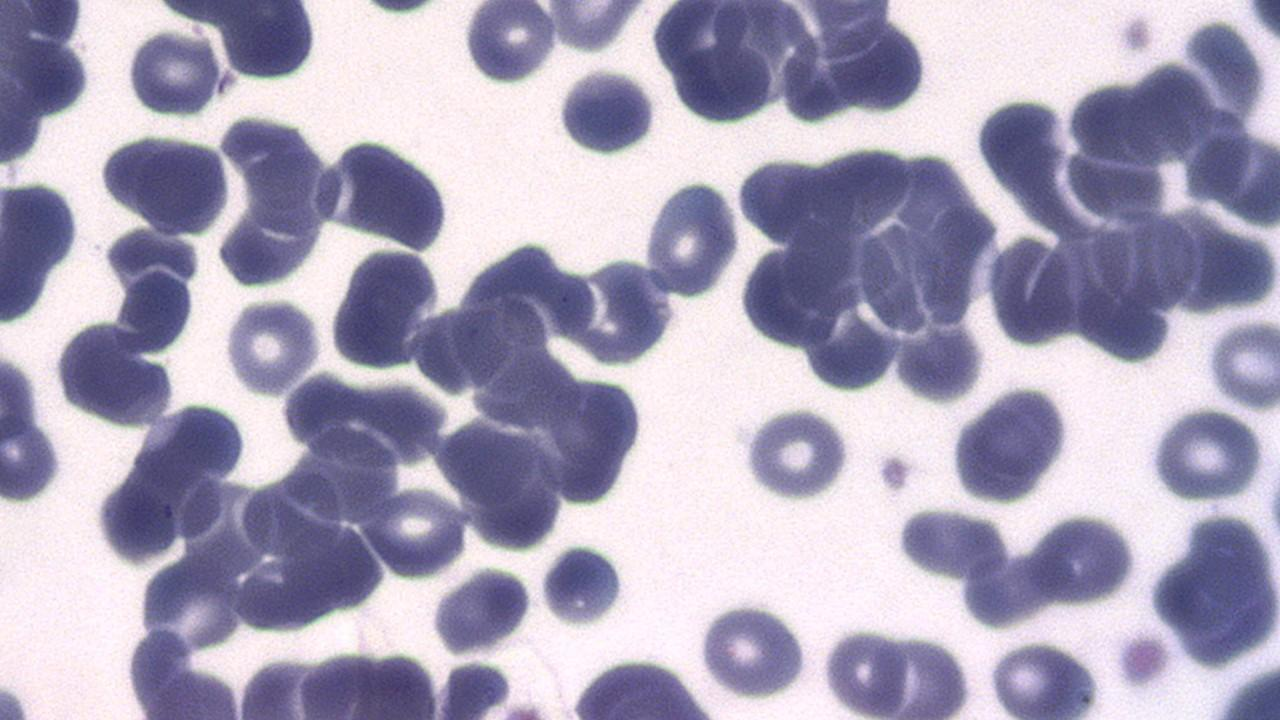Platelets: (692, 593, 814, 701), (736, 403, 854, 504), (818, 622, 914, 716), (122, 31, 220, 122), (459, 3, 560, 88), (538, 543, 628, 627), (0, 416, 66, 506), (873, 448, 918, 494), (358, 0, 434, 18)
RBC: (740, 386, 861, 513), (692, 592, 814, 702), (1145, 403, 1267, 506), (640, 177, 742, 298), (985, 230, 1077, 349), (221, 295, 324, 397), (359, 488, 471, 578), (983, 636, 1105, 716), (125, 26, 221, 121), (460, 0, 560, 89), (820, 620, 910, 718), (1205, 314, 1279, 414), (540, 1, 654, 56)
WBC: (0, 0, 769, 720), (698, 4, 1280, 720), (308, 0, 926, 216), (0, 0, 396, 328), (956, 0, 1280, 391), (696, 149, 1042, 413), (635, 0, 937, 134), (1, 2, 99, 179), (318, 131, 457, 254), (948, 383, 1078, 506), (99, 129, 235, 238), (0, 172, 85, 332), (0, 316, 63, 514), (1024, 512, 1140, 608), (428, 561, 535, 657), (554, 65, 662, 159), (562, 656, 725, 716), (457, 1, 560, 87)
